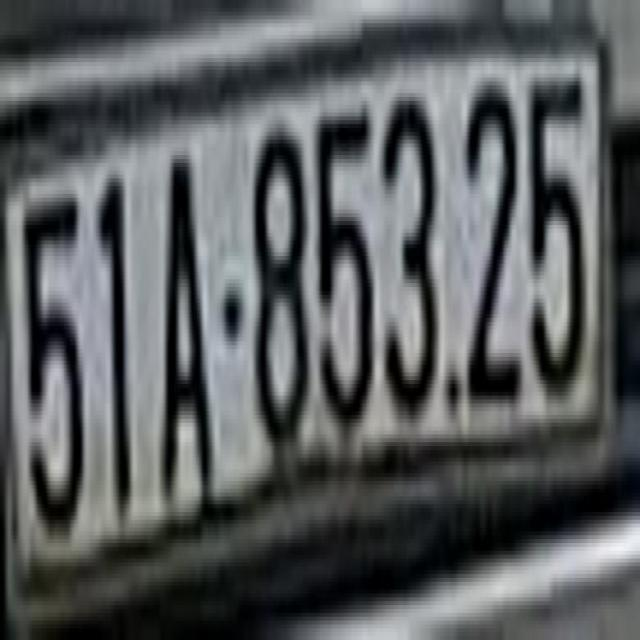1: (96, 163, 139, 512)
2: (466, 78, 524, 392)
3: (382, 81, 439, 415)
5: (21, 174, 84, 550), (528, 70, 587, 411), (317, 105, 376, 419)
8: (250, 105, 308, 442)
A: (159, 144, 218, 492)
